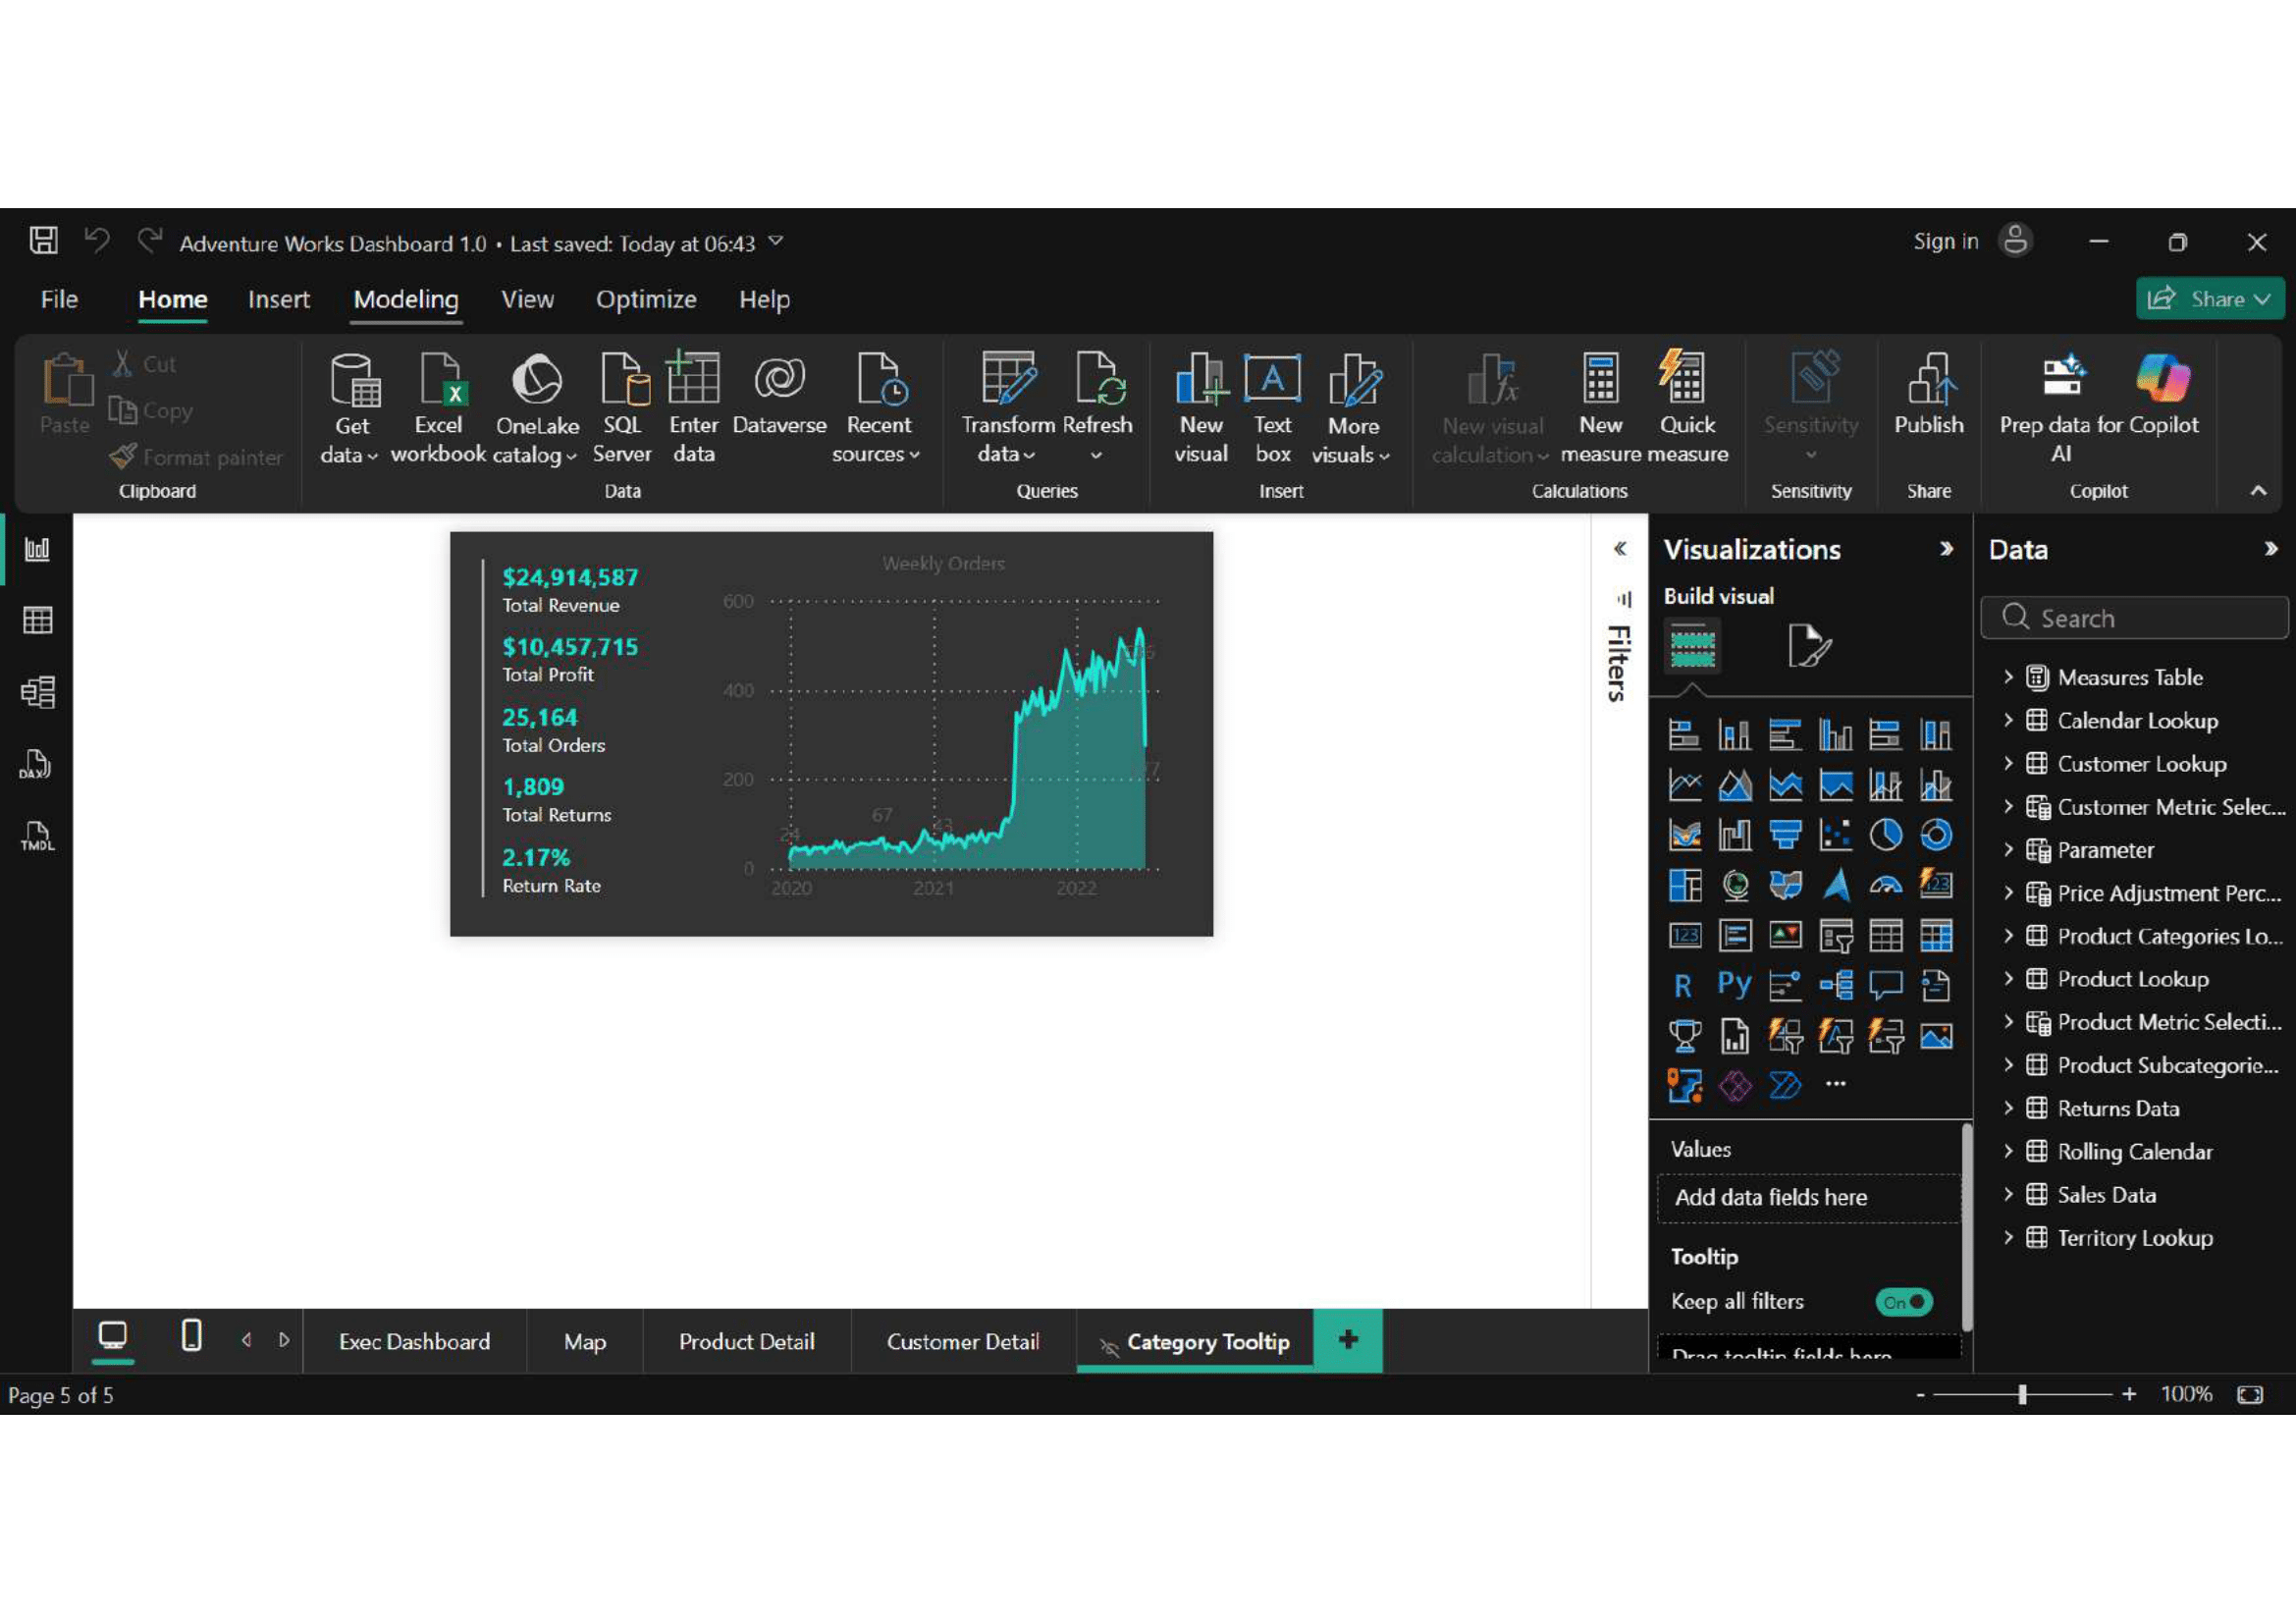

This screenshot's page, from the dashboard's own definition file:
{"tool":"powerbi","page":{"name":"Category Tooltip","canvas":[425,225],"ordinal":4},"visuals":[{"type":"multiRowCard","fields":{"Values":["Measures Table.Total Revenue","Measures Table.Total Profit","Measures Table.Total Orders","Measures Table.Total Returns","Measures Table.Return Rate"]},"box":[12,10,169,205],"z":0},{"type":"areaChart","title":"Weekly Orders","fields":{"Category":["Calendar Lookup.Start of Week"],"Y":["Measures Table.Total Orders"]},"box":[146,10,258,205],"z":1000}]}

Visuals, with their boxes on the page's 425x225 design canvas (x1, y1, x2, y2). These are canvas units, not pixel positions in the 2296x1623 screenshot, which may show the page scaled, cropped or inside an application window:
multiRowCard - Measures Table.Total Revenue x Measures Table.Total Profit: x1=12, y1=10, x2=181, y2=215
"Weekly Orders" areaChart: x1=146, y1=10, x2=404, y2=215
